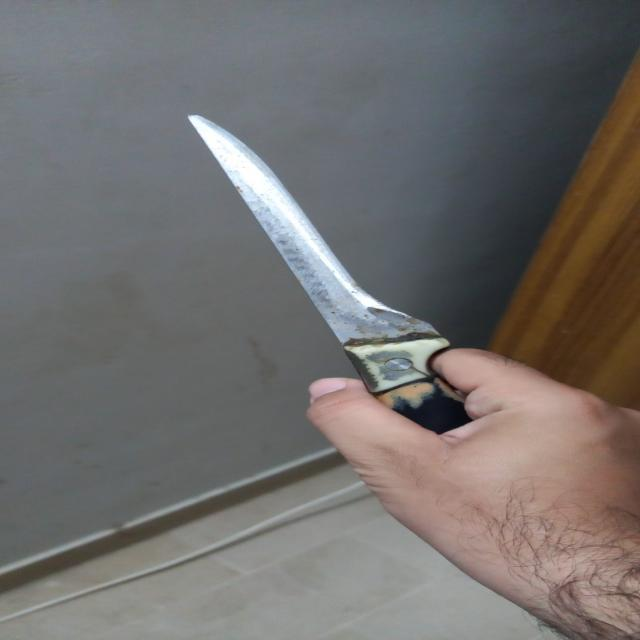knife: (178, 103, 508, 461)
